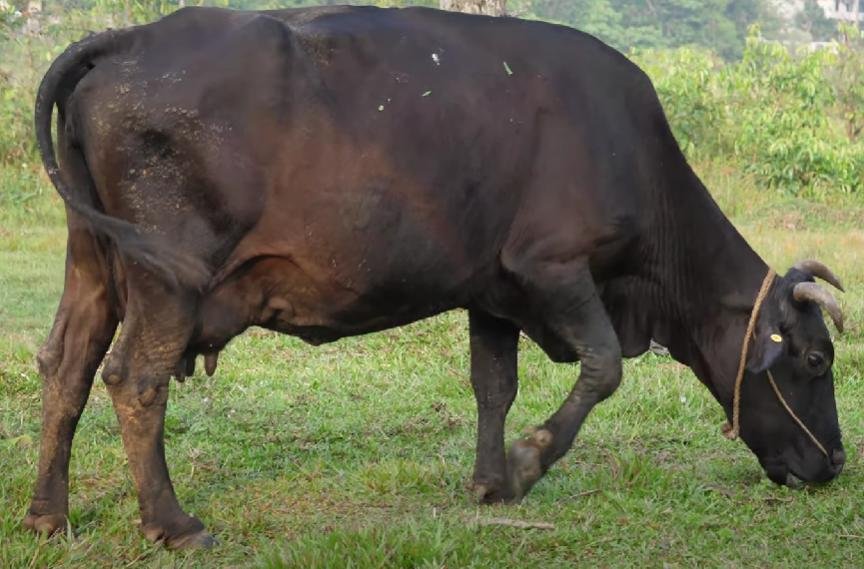cow: (20, 3, 844, 554)
